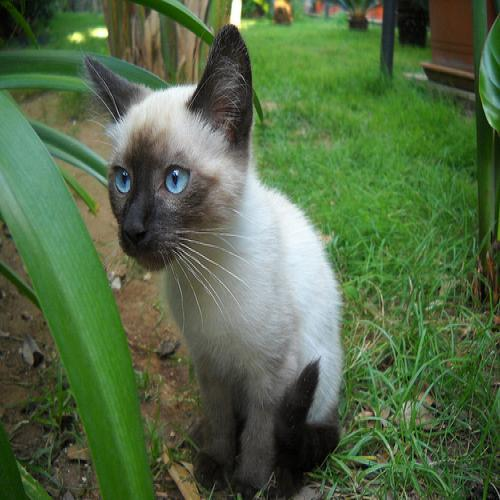siamese: (70, 24, 270, 281)
